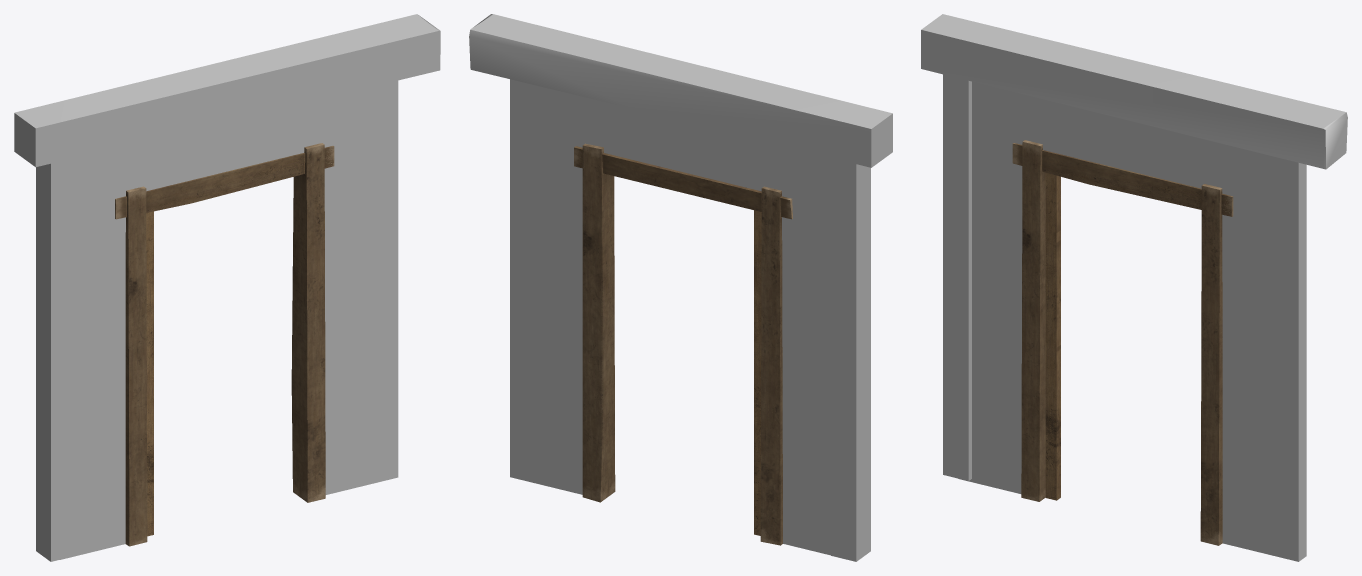
File: SM_WallElement_11_COLL.FBX
3 views of the same model, side by side, from view 1: azimuth 30°, elevation 25°; view 2: azimuth 150°, elevation 25°; view 3: azimuth 330°, elevation 25° (orthographic).
Visible parts, largest first — view 1: SM_WallElement_11_COLL; view 2: SM_WallElement_11_COLL; view 3: SM_WallElement_11_COLL.
Part boxes in pixels (x1,y1,x2,y2): SM_WallElement_11_COLL: (14, 14, 440, 561); SM_WallElement_11_COLL: (469, 14, 892, 561); SM_WallElement_11_COLL: (921, 14, 1347, 561).
Bounding box in the file's own units: 2.98 × 3.14 × 0.2992.
